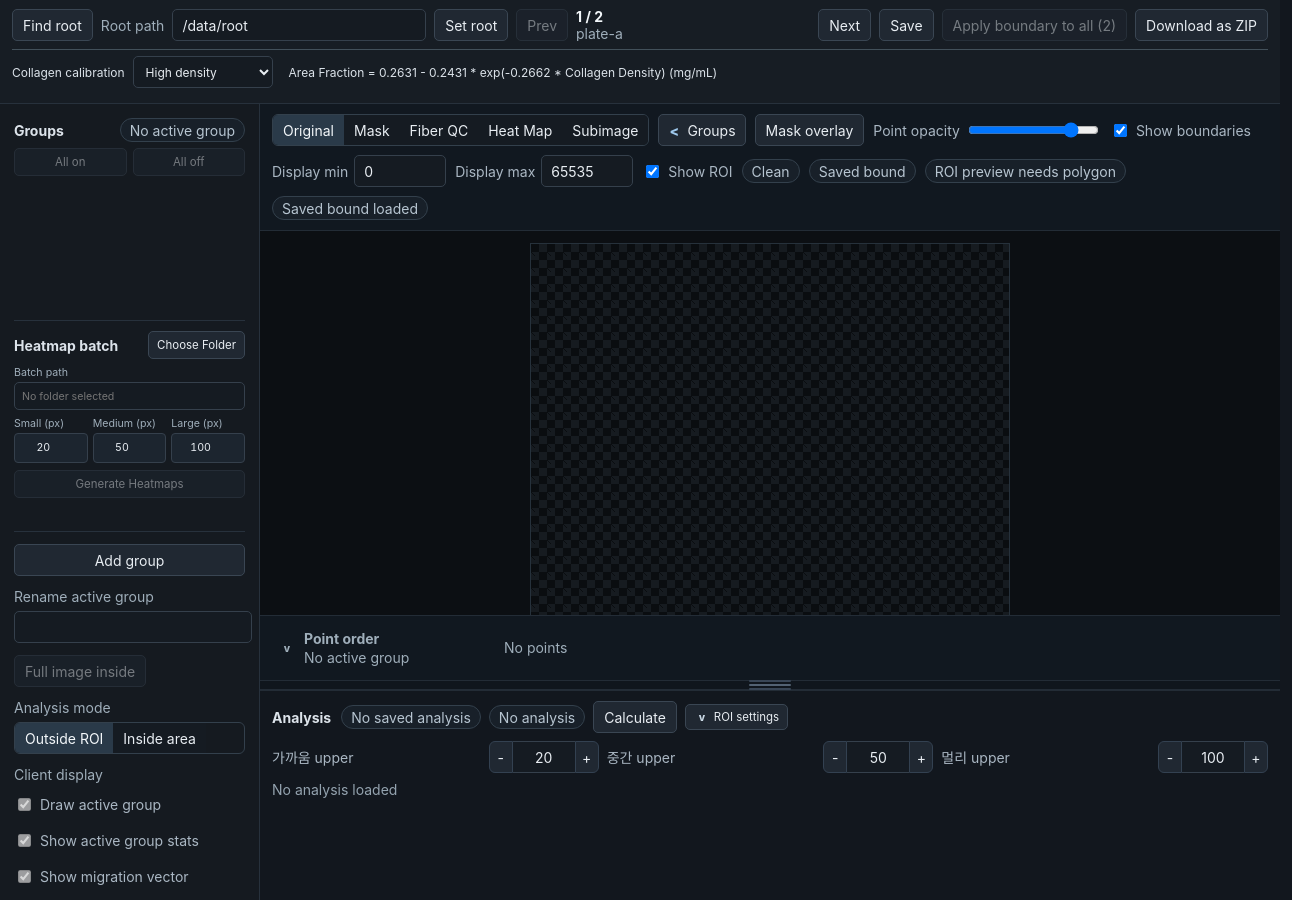
Test: App › resets a discarded new group's visibility when recreated using Inside area
This screenshot has width=1292, height=900.
Click the button "Add group" at (130, 560), box [14,544,245,576]
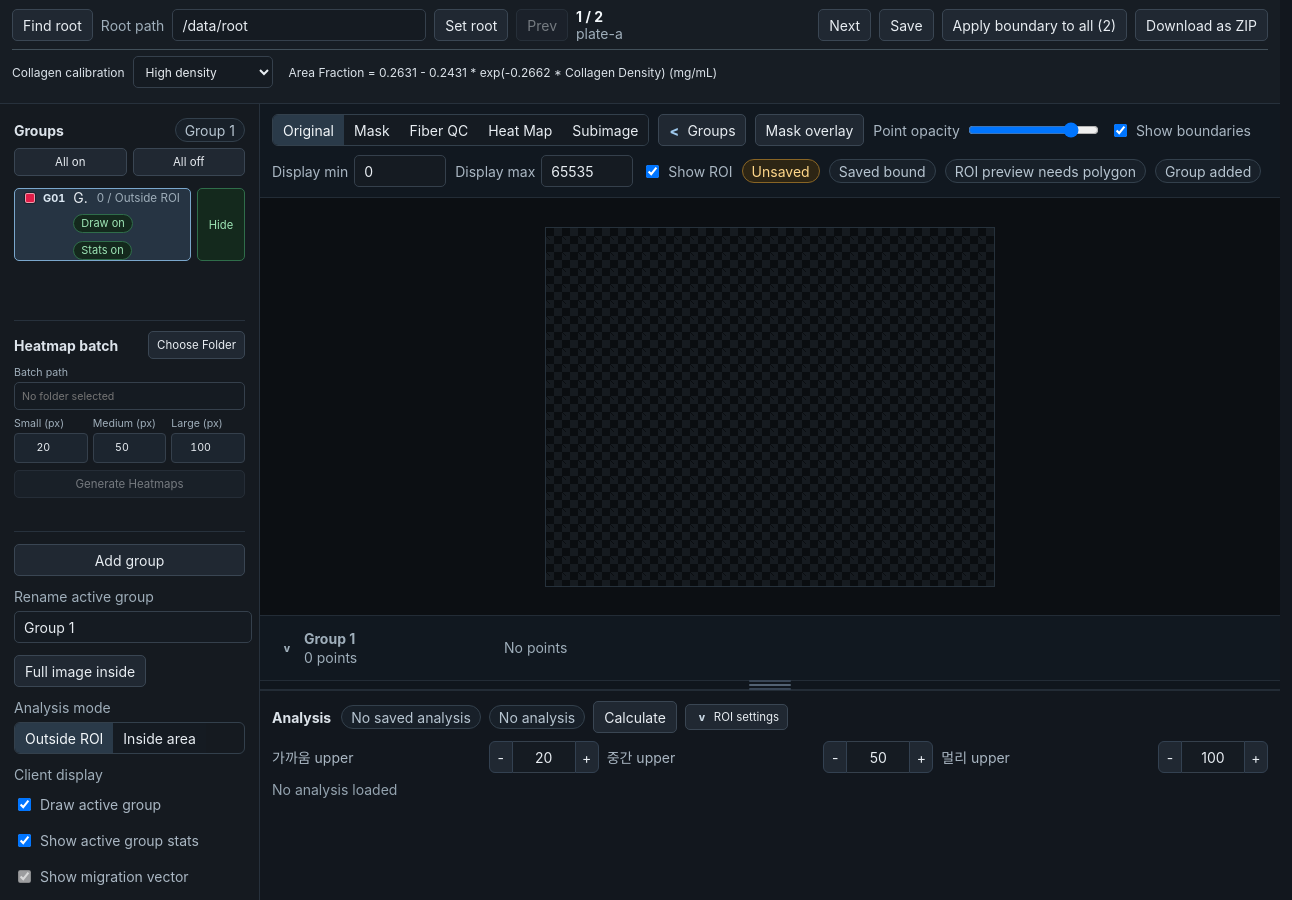
Click the button with aria-label "Hide Group 1 display" at (221, 225), box [197,188,245,261]
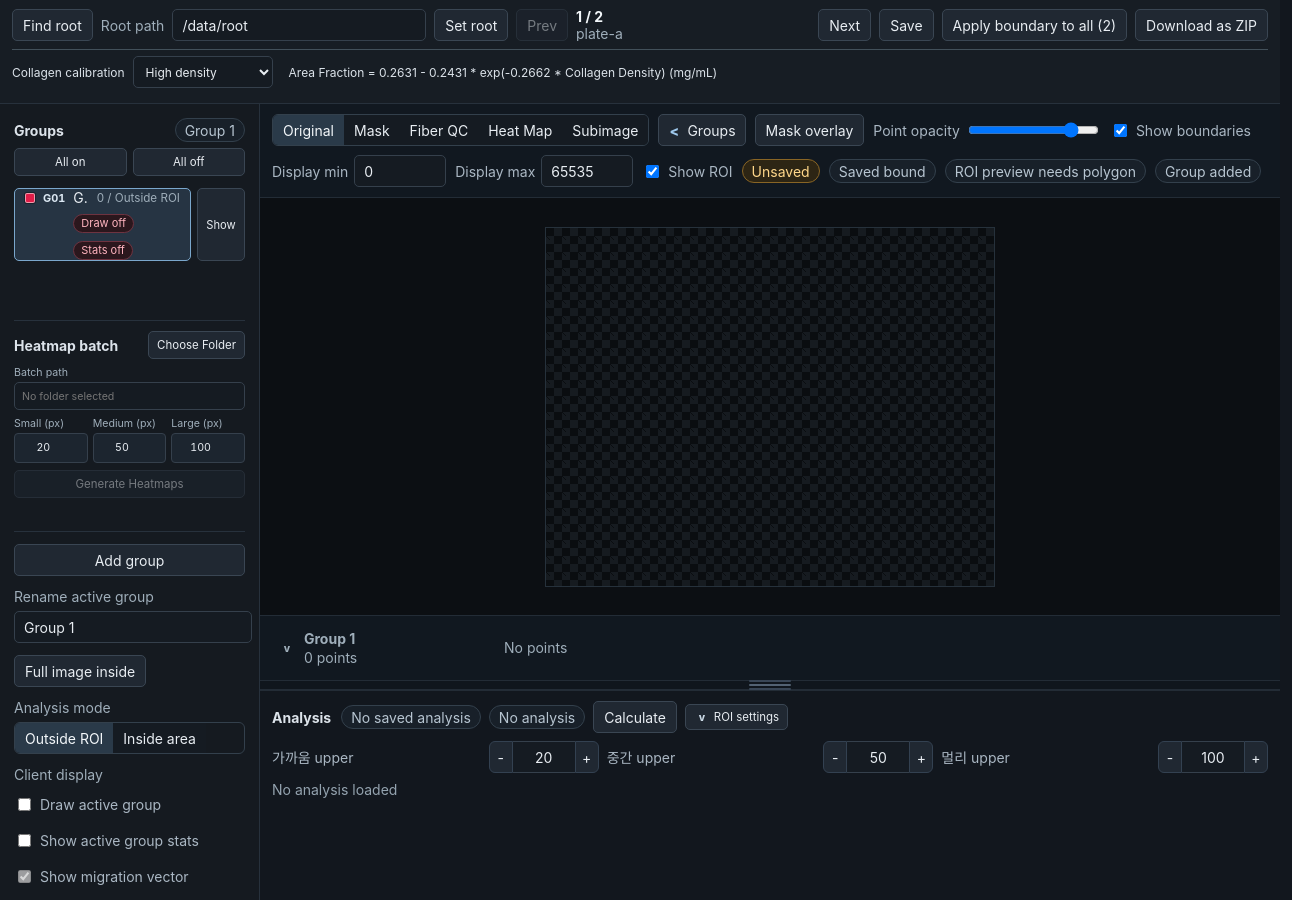
Click the button with aria-label "Next image" at (845, 25), box [818,9,871,41]
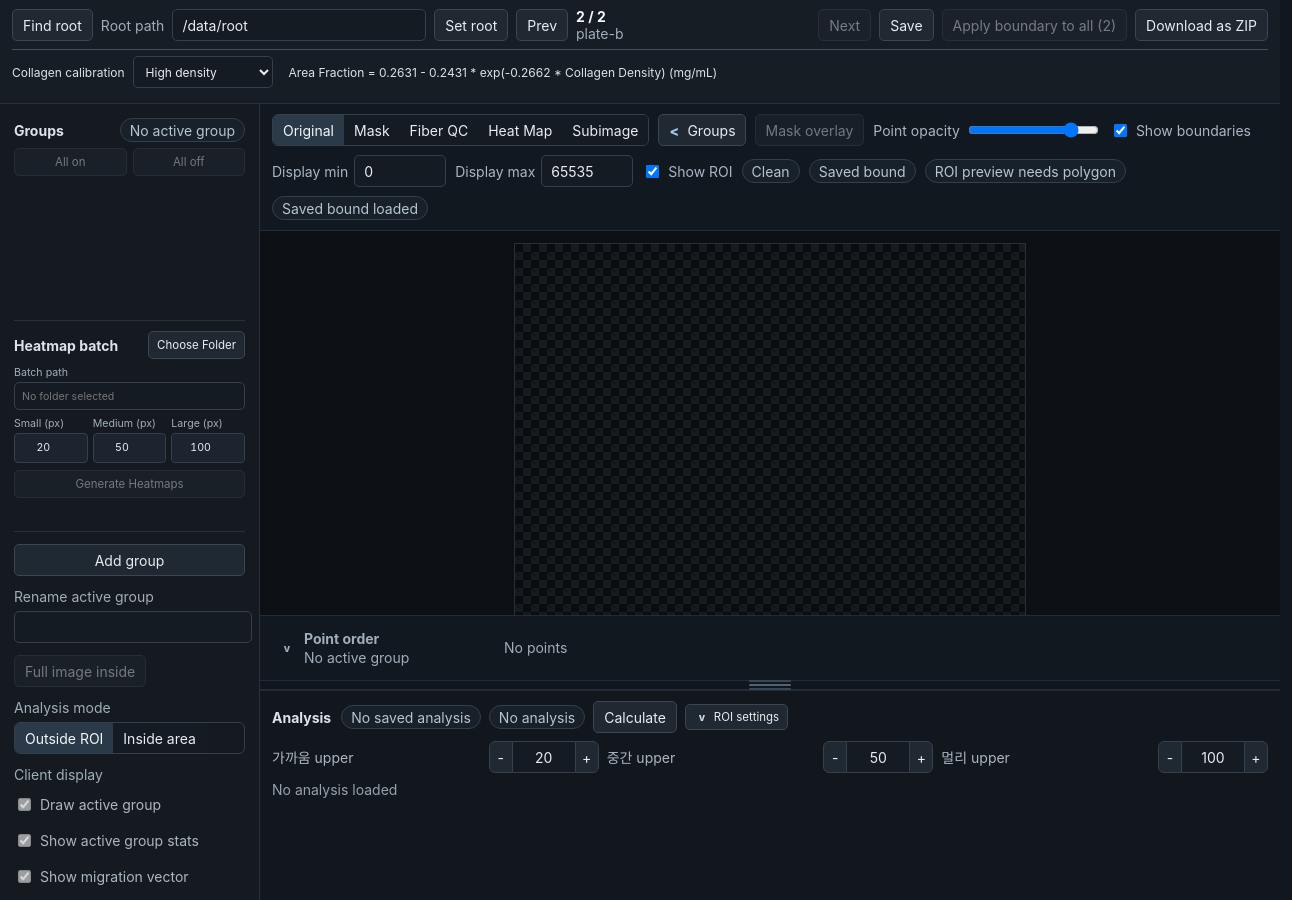
Expected: the text "Group 1" is gone
Click the button with aria-label "Previous image" at (542, 25), box [516,9,568,41]
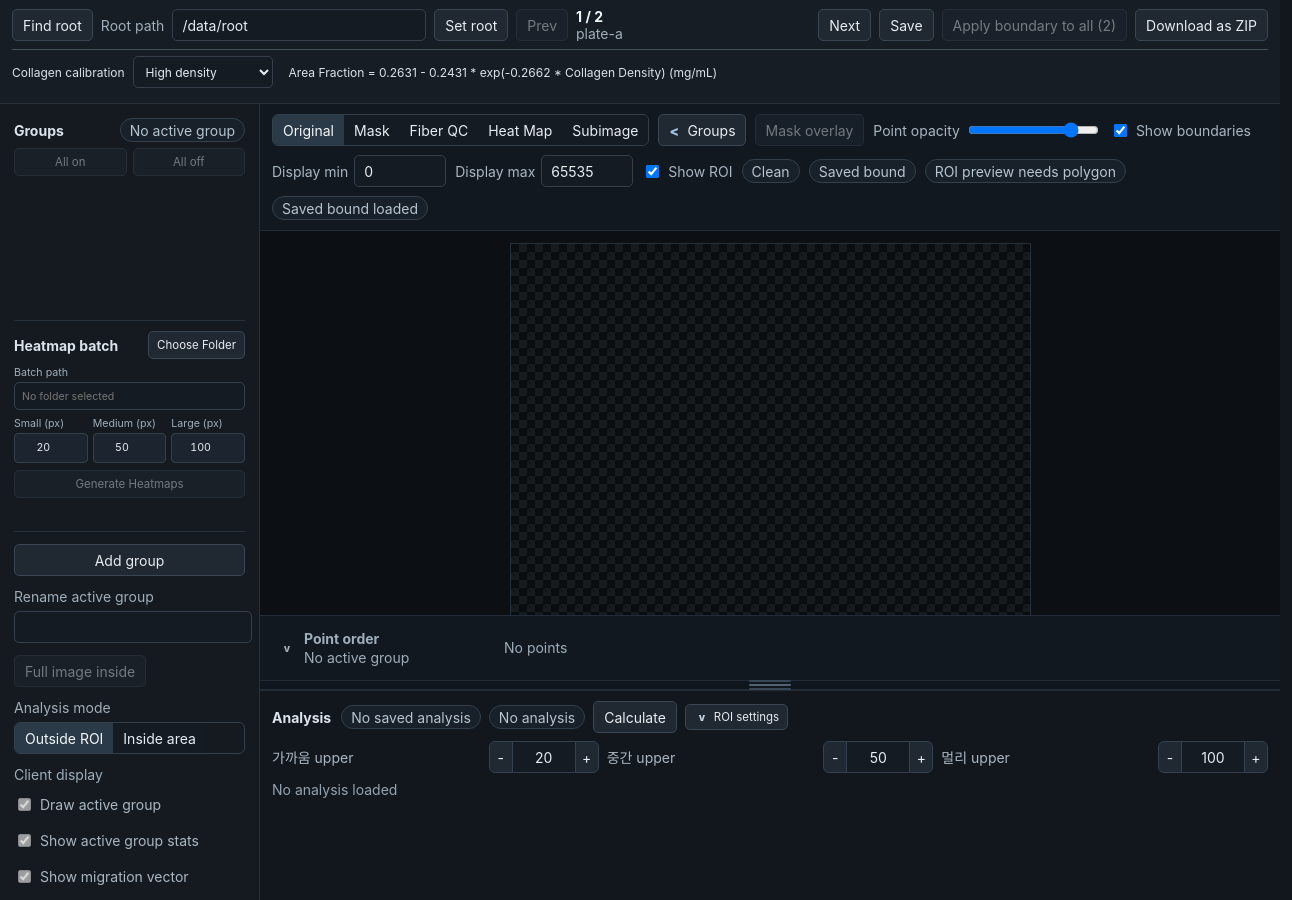
Expected: the button with aria-label "Previous image" is disabled, [516,9,568,41]
Click the button "Inside area" at (160, 738), box [113,723,206,753]
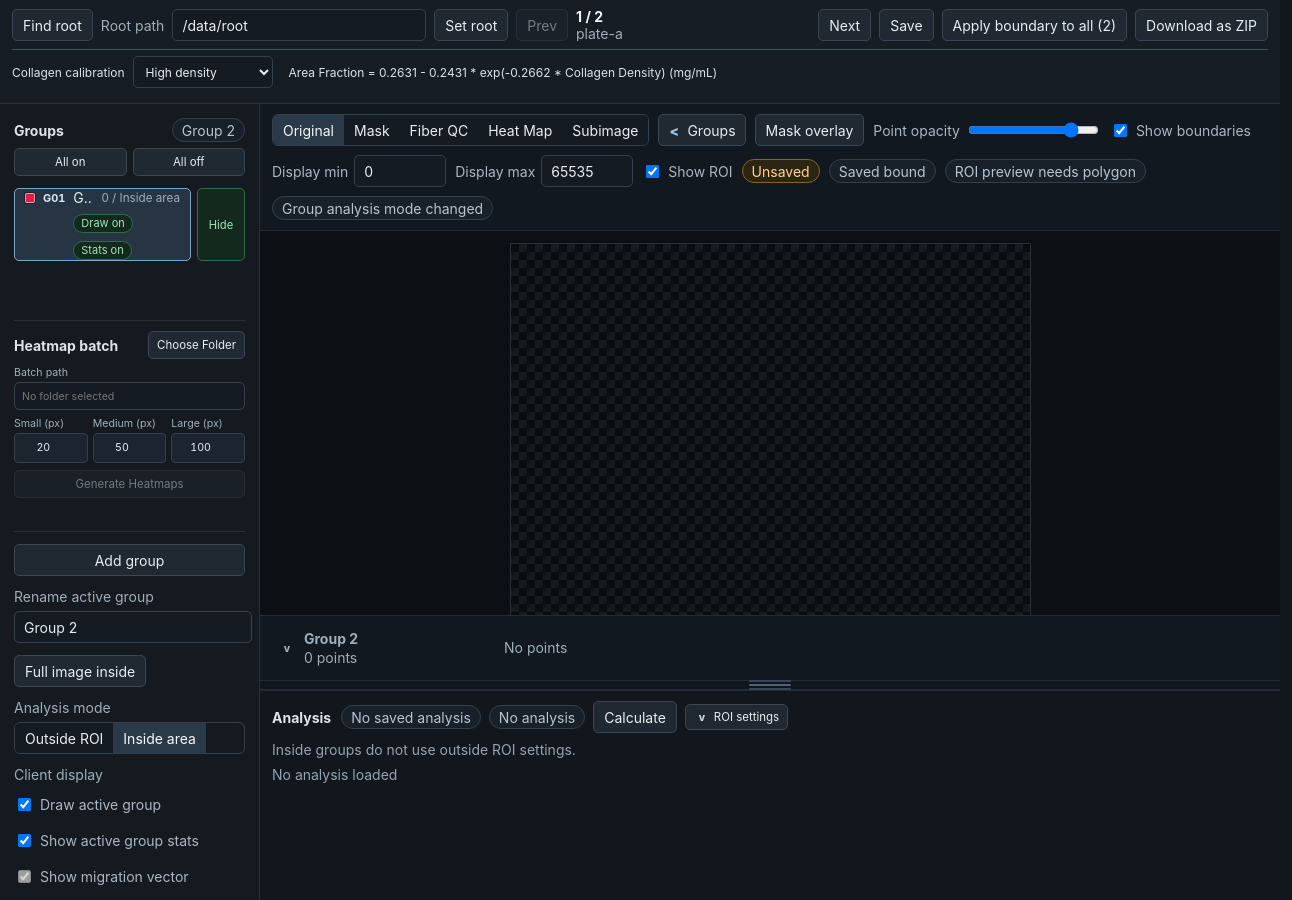
Expected: the button with aria-label "Hide Group 2 display" is shown, [197,188,245,261]
